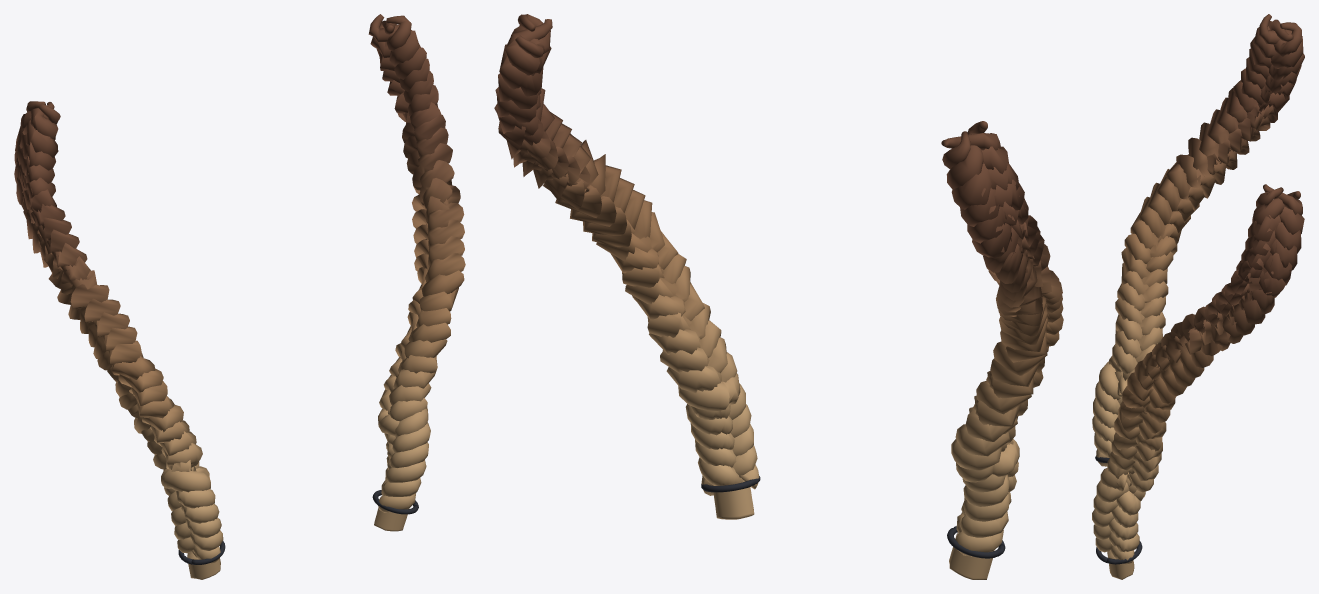
Rendered from Ombre-977ab3b6ca6d253-hair.glb.
The picture shows the model from 3 angles, left to right: view 1: azimuth 30°, elevation 25°; view 2: azimuth 150°, elevation 25°; view 3: azimuth 270°, elevation 25°; orthographic projection. The views are drawn at different scales.
Parts seen in each view (by area): view 1: 226 hairLengths / Hair / chestnut226, 226 hairLengths / Hair / ties226; view 2: 226 hairLengths / Hair / chestnut226, 226 hairLengths / Hair / ties226; view 3: 226 hairLengths / Hair / chestnut226, 226 hairLengths / Hair / ties226.
Part boxes in pixels (x1,y1,x2,y2): 226 hairLengths / Hair / chestnut226: [14, 14, 465, 579]; 226 hairLengths / Hair / ties226: [178, 490, 418, 564]; 226 hairLengths / Hair / chestnut226: [494, 14, 1063, 579]; 226 hairLengths / Hair / ties226: [701, 476, 1005, 558]; 226 hairLengths / Hair / chestnut226: [1092, 14, 1304, 579]; 226 hairLengths / Hair / ties226: [1095, 455, 1142, 564].
Size of the model in its own units: 1.03 by 1.05 by 0.4743.
Materials: 2 (1 with a texture image).
